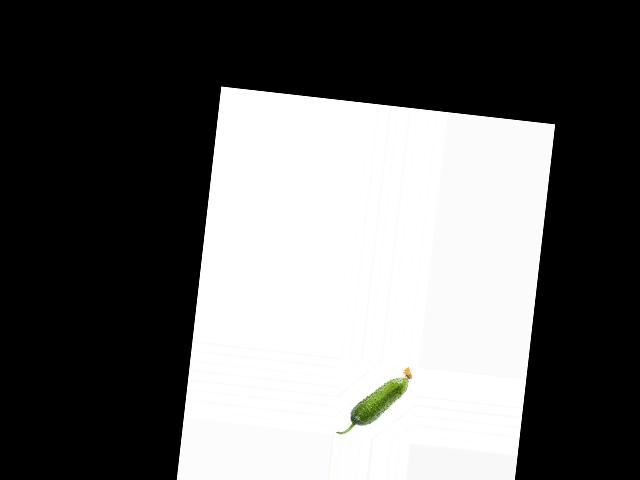cucumber: (336, 359, 413, 441)
